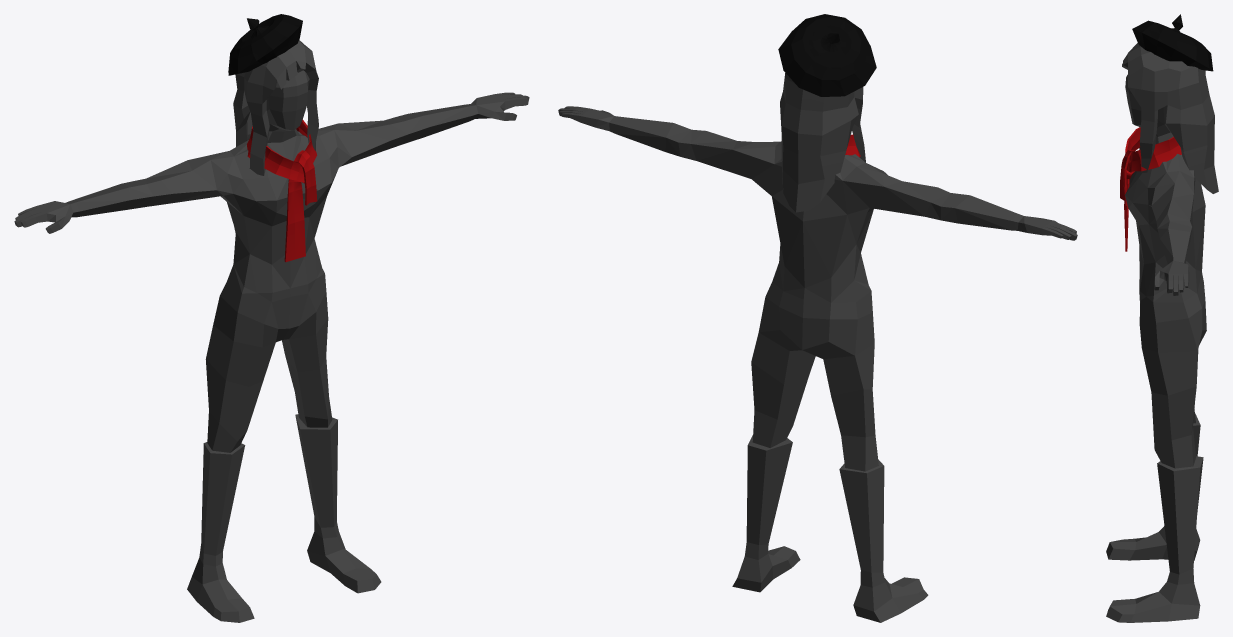
File: Mime_Female.gltf
3 views of the same model, side by side, from view 1: azimuth 30°, elevation 25°; view 2: azimuth 150°, elevation 25°; view 3: azimuth 270°, elevation 25° (orthographic). The views are drawn at different scales.
Visible parts, largest first — view 1: Pants Female, Torso Female, Head 1 Female Hair 1, Красный шарф, Чёрный берет; view 2: Pants Female, Torso Female, Head 1 Female Hair 1, Чёрный берет; view 3: Pants Female, Torso Female, Head 1 Female Hair 1, Чёрный берет, Красный шарф.
Part boxes in pixels (left/top/right/bottom): Pants Female: left=187, top=273, right=381, bottom=622; Torso Female: left=14, top=92, right=529, bottom=293; Head 1 Female Hair 1: left=233, top=40, right=318, bottom=175; Красный шарф: left=247, top=119, right=317, bottom=262; Чёрный берет: left=228, top=14, right=302, bottom=75; Pants Female: left=732, top=282, right=928, bottom=622; Torso Female: left=558, top=106, right=1077, bottom=302; Head 1 Female Hair 1: left=780, top=73, right=865, bottom=212; Чёрный берет: left=778, top=14, right=876, bottom=96; Pants Female: left=1106, top=279, right=1206, bottom=622; Torso Female: left=1125, top=154, right=1205, bottom=302; Head 1 Female Hair 1: left=1122, top=43, right=1218, bottom=193; Чёрный берет: left=1132, top=14, right=1213, bottom=71; Красный шарф: left=1120, top=127, right=1181, bottom=251.
Size of the model in its own units: 1.73 by 1.83 by 0.3335.
